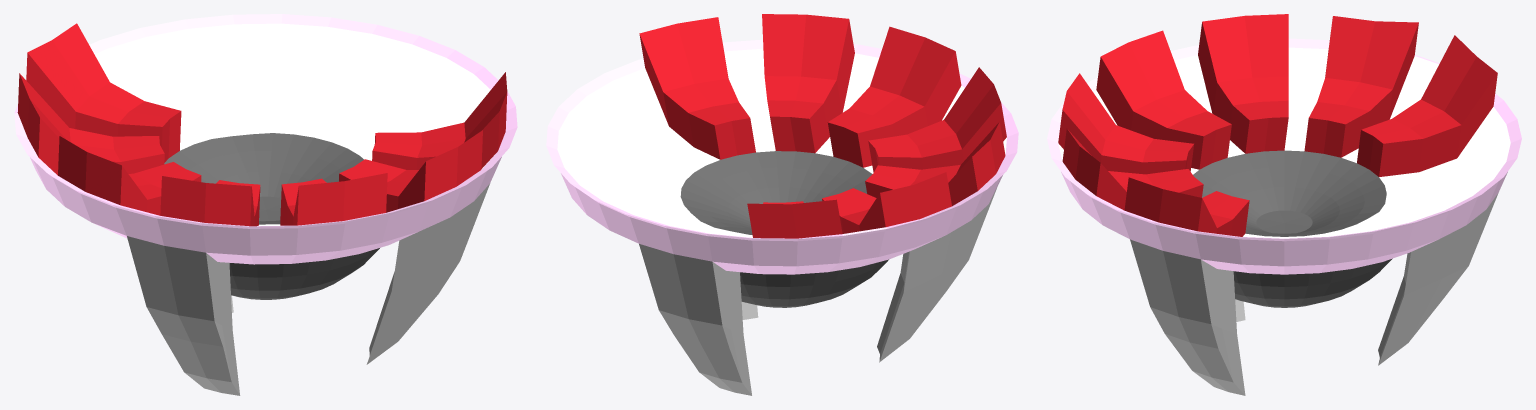
File: spink.glb
3 views of the same model, side by side, from view 1: azimuth 30°, elevation 25°; view 2: azimuth 150°, elevation 25°; view 3: azimuth 270°, elevation 25° (orthographic). The views are drawn at different scales.
Visible parts, largest first — view 1: Spaceship Pink; view 2: Spaceship Pink; view 3: Spaceship Pink.
Part boxes in pixels (x1,y1,x2,y2): Spaceship Pink: [14, 14, 517, 395]; Spaceship Pink: [546, 14, 1018, 395]; Spaceship Pink: [1047, 14, 1521, 395].
Bounding box in the file's own units: 1.34 × 0.7952 × 1.34.
